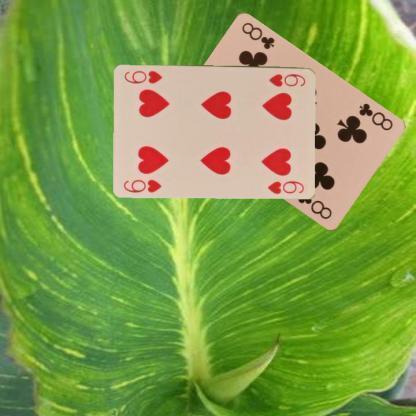6h: (121, 176, 163, 194), (266, 71, 307, 88)
8c: (355, 100, 394, 132)
